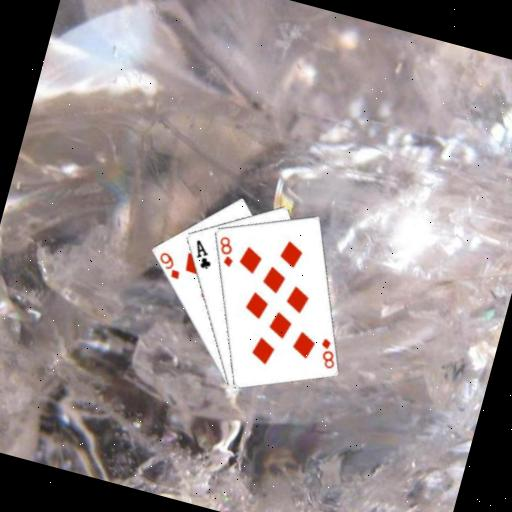8D: (210, 232, 240, 270), (312, 333, 342, 371)
9D: (151, 247, 186, 281)
AC: (186, 235, 217, 272)
